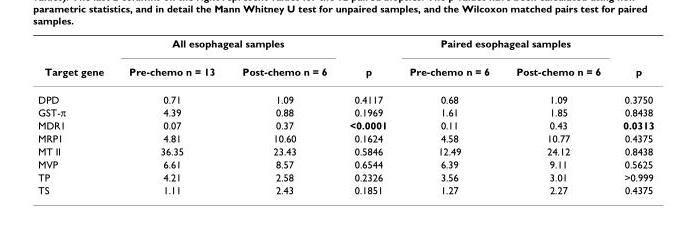table: (37, 36, 653, 195)
table column: (115, 36, 227, 195), (227, 36, 337, 195), (502, 36, 611, 195), (397, 36, 502, 195), (37, 36, 115, 195), (337, 36, 397, 195), (611, 36, 653, 195)
table column header: (37, 36, 653, 85)
table row: (37, 56, 653, 85), (37, 36, 653, 56), (37, 85, 653, 105), (37, 105, 653, 118), (37, 118, 653, 131), (37, 131, 653, 144), (37, 144, 653, 157), (37, 157, 653, 170), (37, 170, 653, 183), (37, 183, 653, 195)
table spanning cell: (115, 36, 337, 56), (397, 36, 611, 56), (37, 36, 115, 85), (337, 36, 397, 85), (611, 36, 653, 85)
